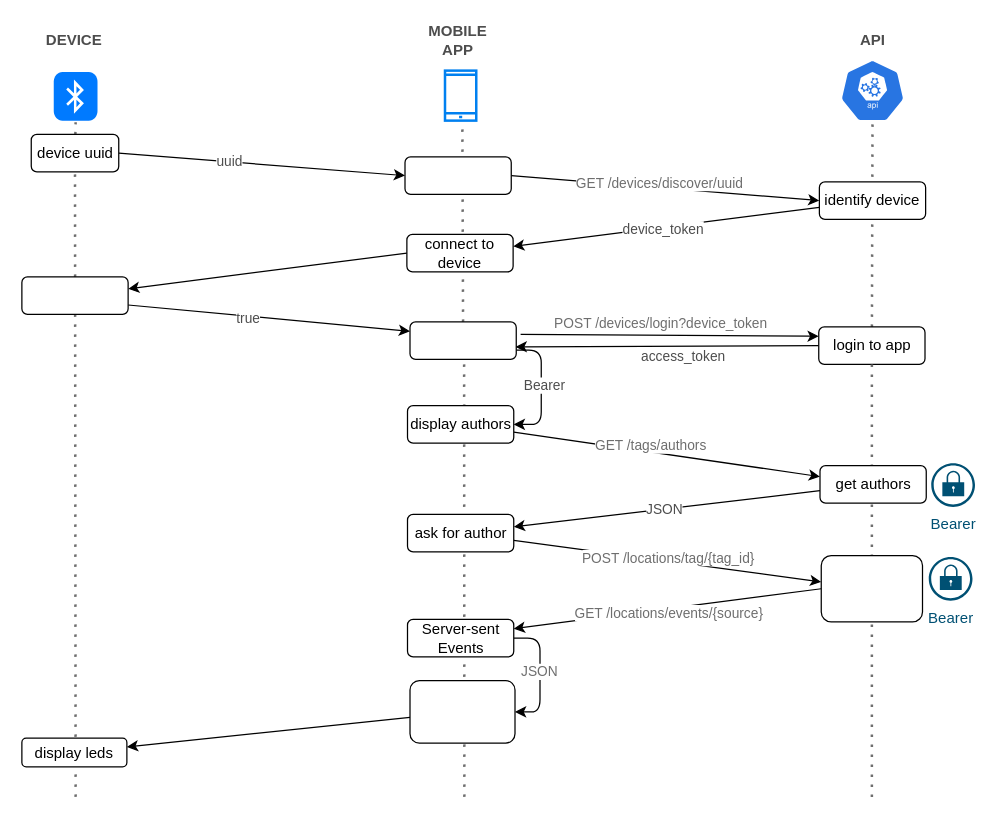
This 998x820 diagram has some shape labels left out. The shapes that lost their labels are listed below. From the top down, each one's centre as x and y in pixels, then its label:
the point at 457,175: check device
the point at 74,295: device connected
the point at 462,340: refresh_token
the point at 871,588: request book positions for author
the point at 462,711: set position message for books
